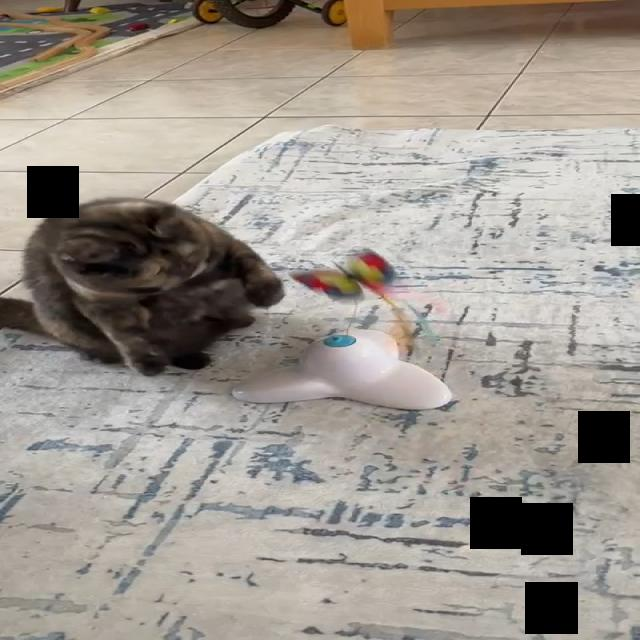authorized: (0, 195, 285, 376)
